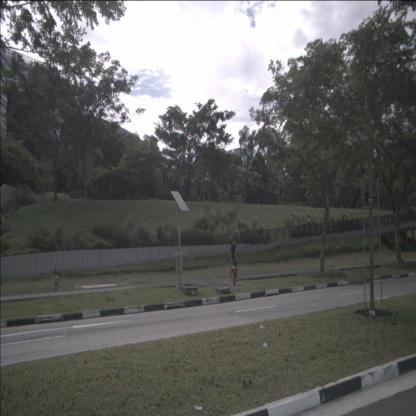human-pedestrian-adult: (230, 236, 238, 278)
